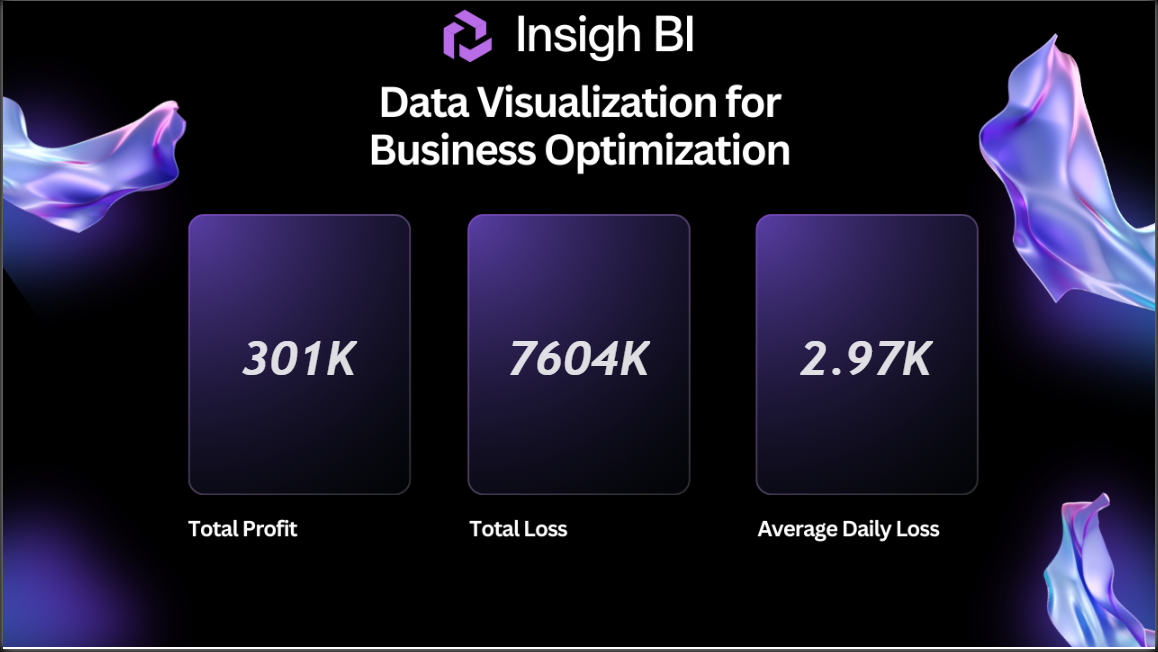

The page's visual inventory and layout, read from the dashboard file:
{"tool":"powerbi","page":{"name":"Profitability & Loss","canvas":[1280,720],"ordinal":1},"visuals":[{"type":"cardVisual","fields":{"Data":["Measures Table 2.Total Profit"]},"box":[196,240.3,267.8,310.3],"z":0},{"type":"cardVisual","fields":{"Data":["Measures Table 2.Total Loss"]},"box":[490.3,240.3,299.7,310.3],"z":1000},{"type":"cardVisual","fields":{"Data":["Measures Table 2.Average Daily Loss"]},"box":[825.5,240.3,267.8,310.3],"z":2000}]}

Visuals, with their boxes in screenshot pixels (x1, y1, x2, y2), scaled from the page's 1280x720 canvas onto the 1158x652 screenshot:
cardVisual - Measures Table 2.Total Profit: locate(177, 218, 420, 499)
cardVisual - Measures Table 2.Total Loss: locate(444, 218, 715, 499)
cardVisual - Measures Table 2.Average Daily Loss: locate(747, 218, 989, 499)
